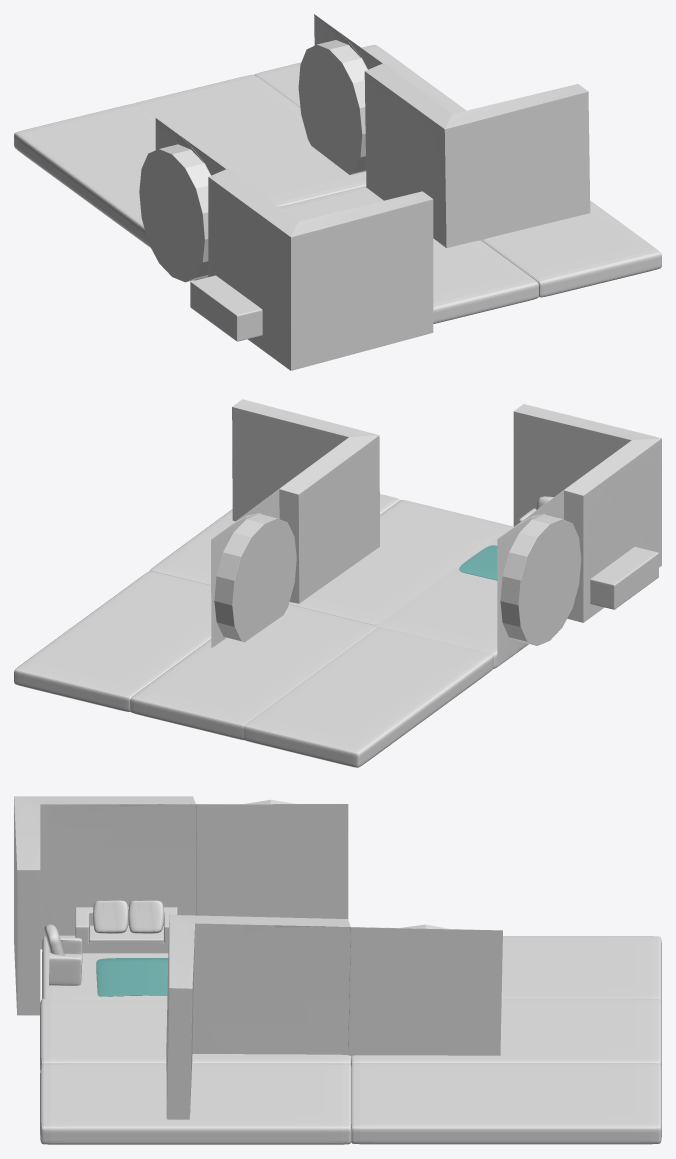
Rendered from small_house_without_light.fbx.
3 renders of one model, top to bottom at view 1: azimuth 30°, elevation 25°; view 2: azimuth 150°, elevation 25°; view 3: azimuth 270°, elevation 25°, orthographic. The views are drawn at different scales.
Visible parts, largest first — view 1: walls.001, walls, floor.004, floor.005, floor.001, floor.003, sofa, floor.002; view 2: walls, walls.001, floor.005, floor.002, floor.004, floor.003, floor, sofa, floor.001, rug; view 3: walls, walls.001, floor.002, floor.001, floor.004, floor.005, floor.003, rug, sofa, floor, sofa.001, Cube (+1 smaller).
Part boxes in pixels (bbox=[...]): walls.001: bbox=[139, 118, 433, 370]; walls: bbox=[298, 14, 590, 247]; floor.004: bbox=[134, 74, 366, 206]; floor.005: bbox=[14, 103, 155, 247]; floor.001: bbox=[482, 200, 661, 297]; floor.003: bbox=[281, 186, 538, 323]; sofa: bbox=[190, 275, 262, 341]; floor.002: bbox=[254, 45, 465, 113]; walls: bbox=[211, 399, 379, 647]; walls.001: bbox=[497, 404, 661, 666]; floor.005: bbox=[244, 627, 493, 767]; floor.002: bbox=[14, 571, 211, 711]; floor.004: bbox=[130, 604, 378, 740]; floor.003: bbox=[289, 500, 513, 624]; floor: bbox=[374, 527, 528, 668]; sofa: bbox=[590, 547, 658, 609]; floor.001: bbox=[150, 494, 400, 585]; rug: bbox=[459, 545, 497, 580]; walls: bbox=[166, 915, 502, 1119]; walls.001: bbox=[14, 796, 348, 1015]; floor.002: bbox=[351, 1063, 661, 1144]; floor.001: bbox=[40, 1063, 351, 1144]; floor.004: bbox=[351, 998, 661, 1069]; floor.005: bbox=[501, 936, 661, 1004]; floor.003: bbox=[40, 998, 350, 1069]; rug: bbox=[96, 958, 168, 996]; sofa: bbox=[75, 907, 177, 953]; floor: bbox=[42, 935, 168, 999]; sofa.001: bbox=[49, 937, 82, 985]; Cube: bbox=[93, 900, 128, 933].
Size of the model in its own units: 1007 by 328 by 1269.
